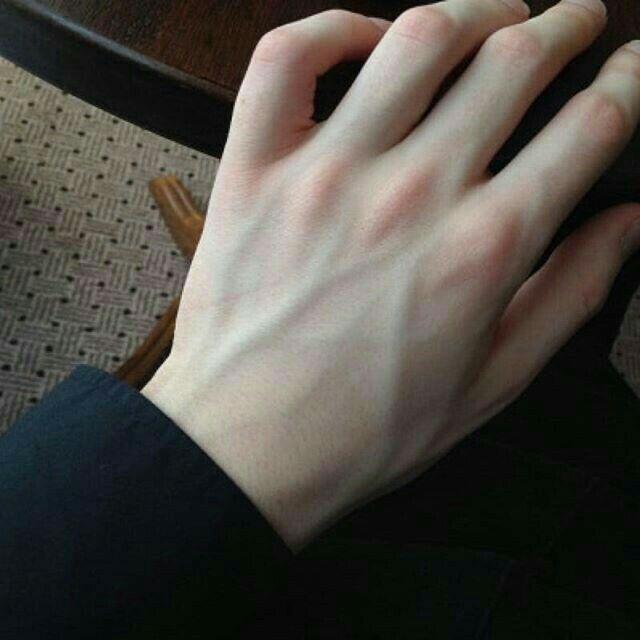hand: (168, 1, 640, 520)
